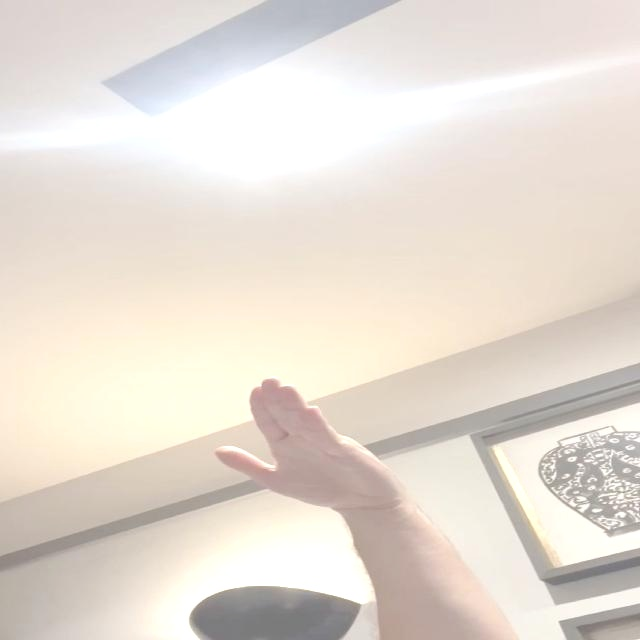Paper: (207, 375, 418, 510)
